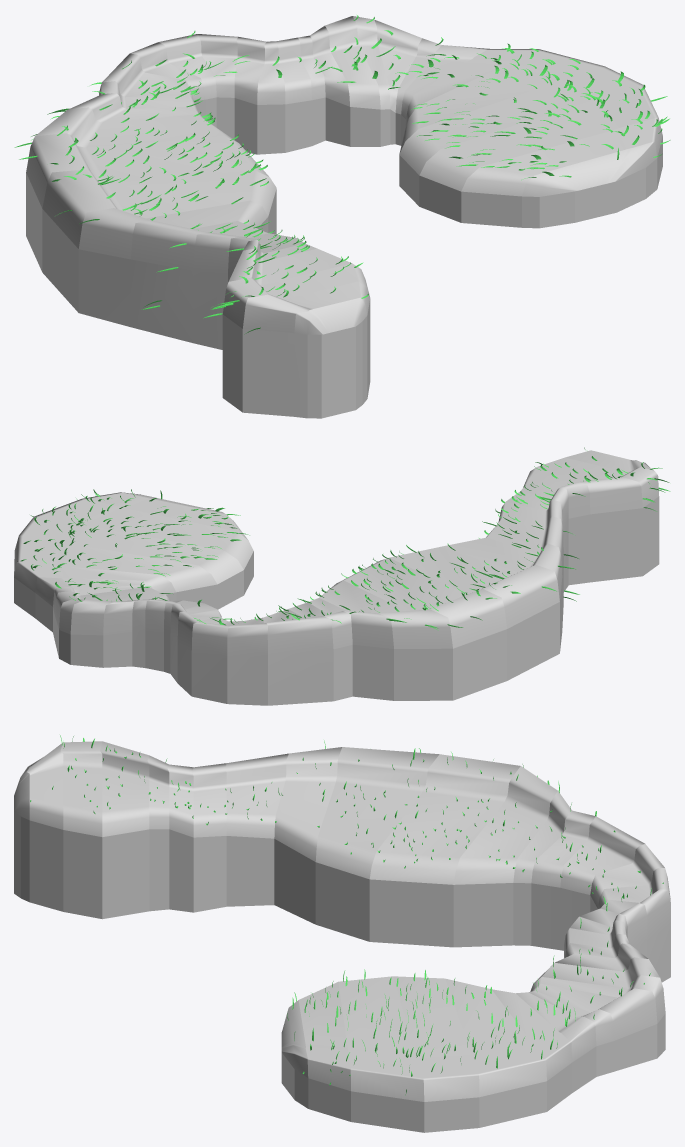
Rendered from Path02 with grass.fbx.
3 renders of one model, top to bottom at view 1: azimuth 30°, elevation 25°; view 2: azimuth 150°, elevation 25°; view 3: azimuth 270°, elevation 25°, orthographic. The views are drawn at different scales.
Parts seen in each view (by area): view 1: pPlane1.001; view 2: pPlane1.001; view 3: pPlane1.001.
Part boxes in pixels (box(x1,y1,x2,y2)): pPlane1.001: box(26, 16, 662, 418); pPlane1.001: box(14, 450, 659, 705); pPlane1.001: box(14, 741, 670, 1132).
Bounding box in the file's own units: 1174 × 225 × 1080.
